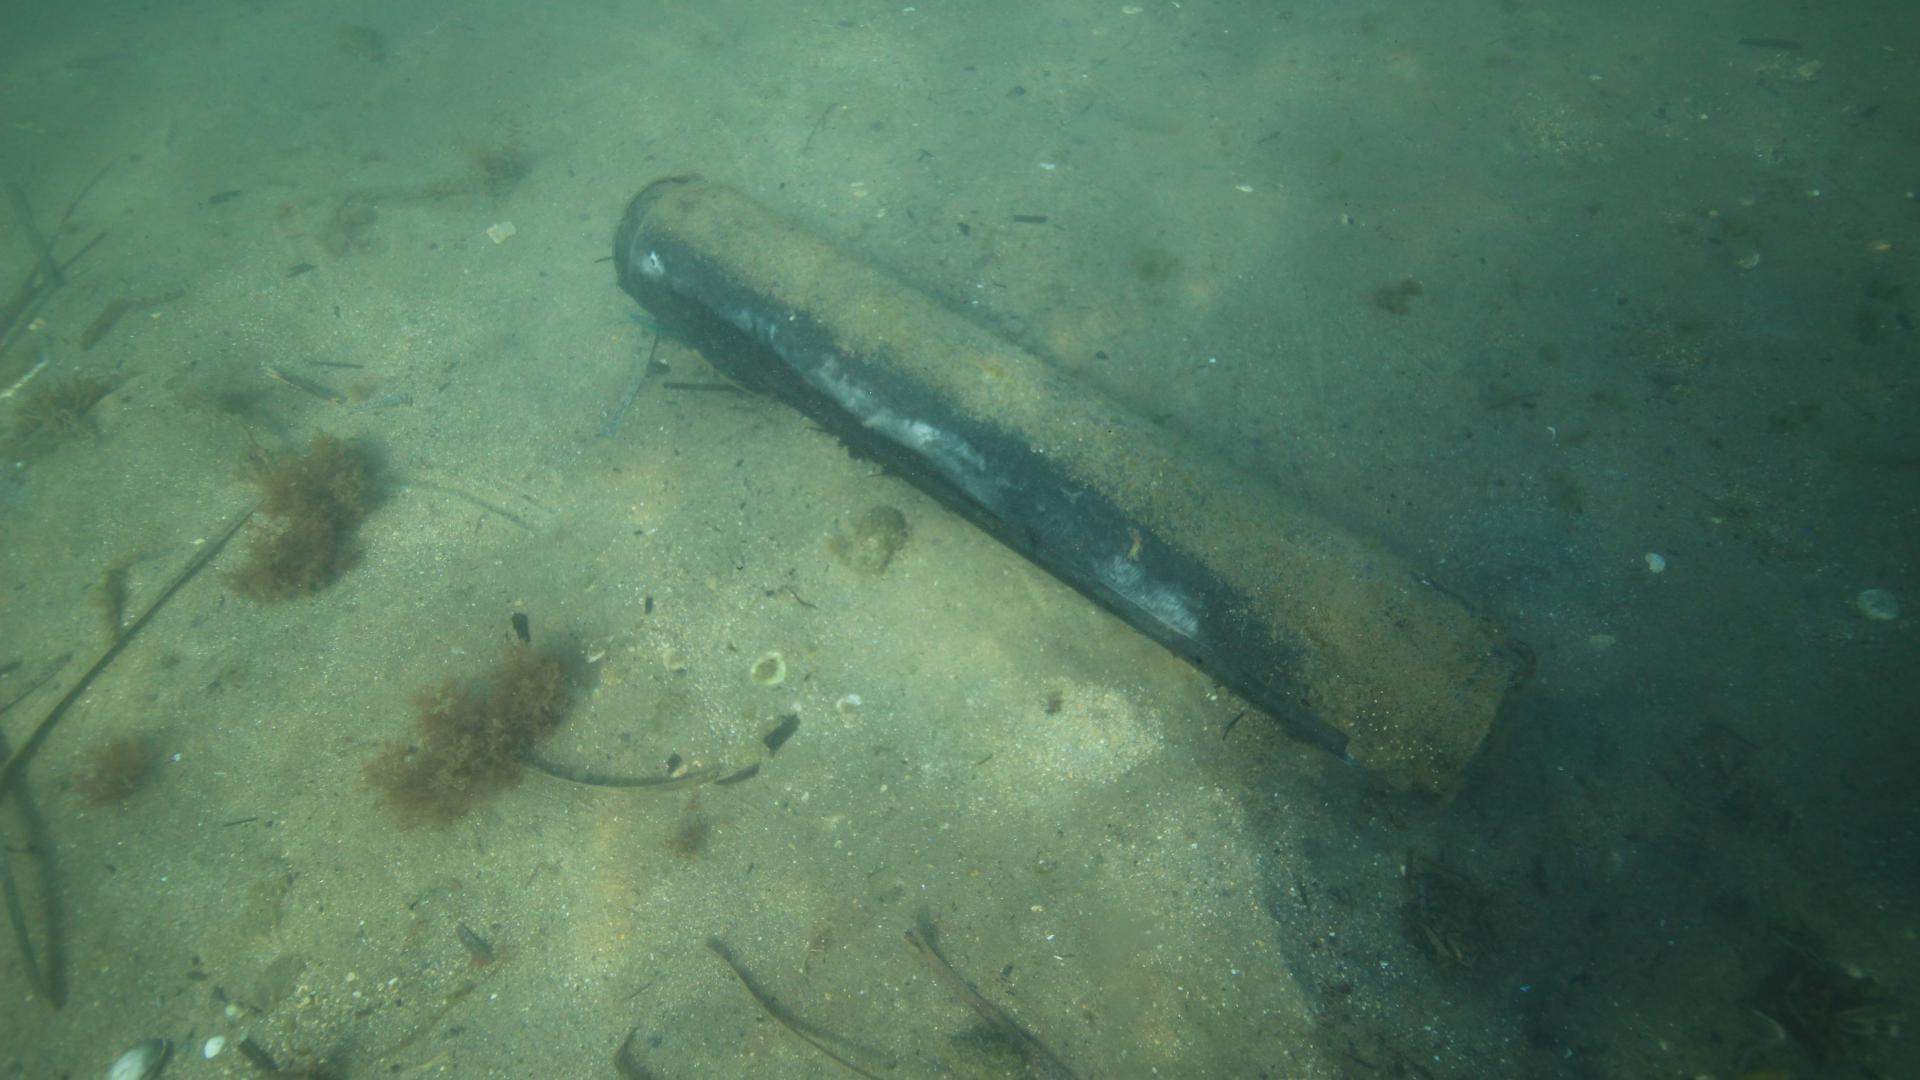eel fish trap: (609, 169, 1535, 806)
